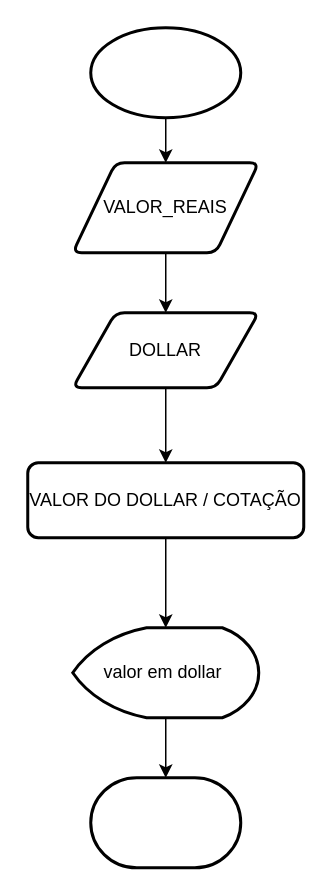
This 330x894 diagram has some shape labels left out. The shapes that lost their labels are listed below. From the top down, each one's box as (x1, y1, x2, y2) in pixels, then its label:
(88, 26, 242, 118): inicio
(88, 776, 242, 868): fim
